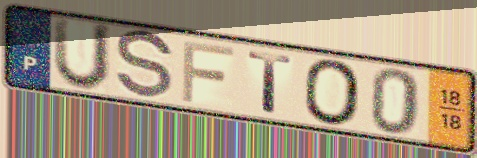0: (369, 66, 424, 137)
F: (179, 38, 237, 105)
O: (302, 57, 363, 128)
S: (113, 28, 176, 102)
T: (245, 49, 295, 116)
U: (50, 15, 116, 94)
